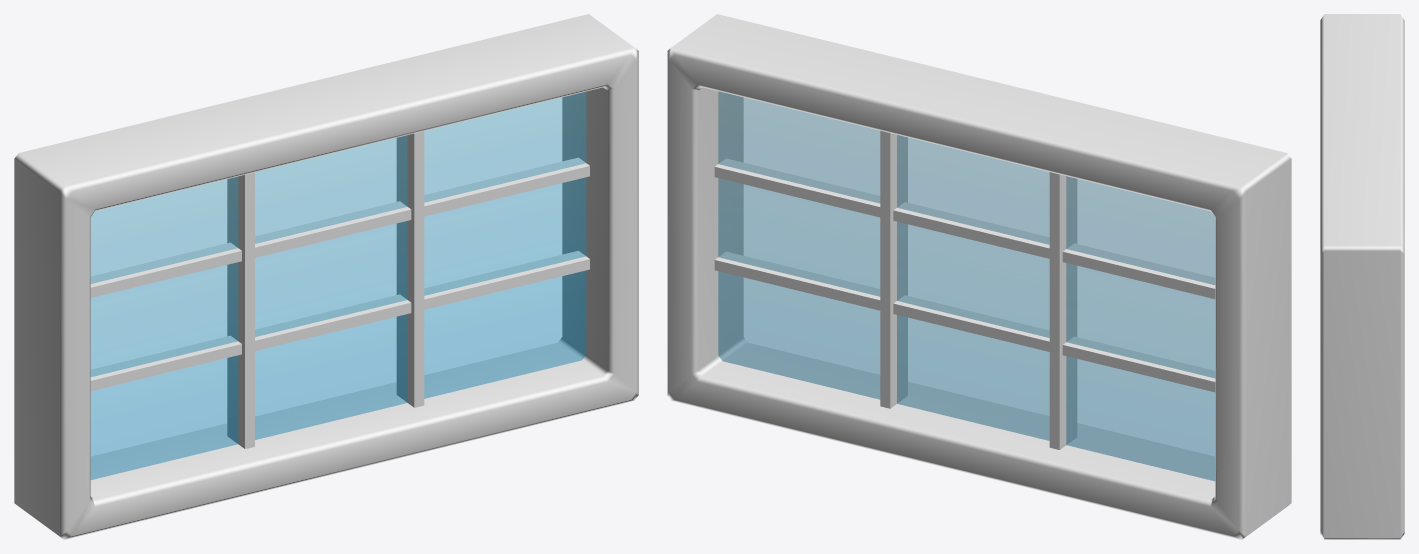
The model's file is Window_White_02.glb.
3 views of the same model, side by side, from view 1: azimuth 30°, elevation 25°; view 2: azimuth 150°, elevation 25°; view 3: azimuth 270°, elevation 25° (orthographic). The views are drawn at different scales.
Visible parts, largest first — view 1: Window_White_02; view 2: Window_White_02; view 3: Window_White_02.
Boxes of the visible parts, <box> form: Window_White_02: <box>14,14,638,539</box>; Window_White_02: <box>667,14,1291,539</box>; Window_White_02: <box>1320,14,1404,539</box>.
Size of the model in its own units: 2.64 by 1.54 by 0.4.
2 materials, 2 textured.
